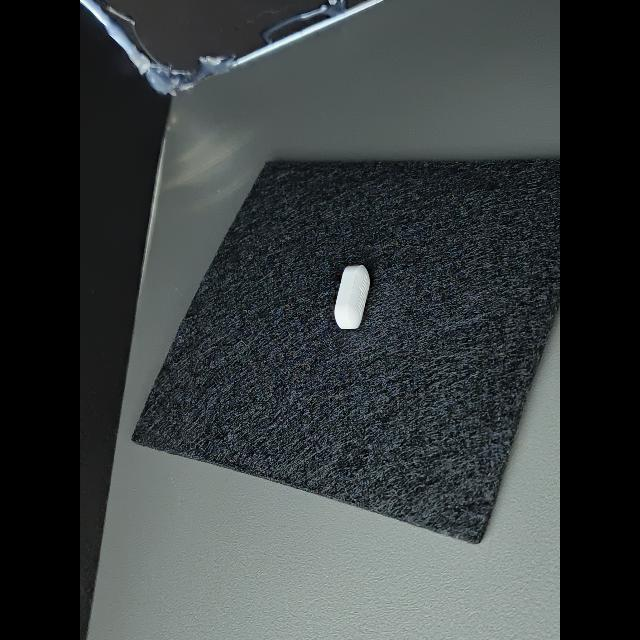Intact Pill: (334, 265, 370, 329)
